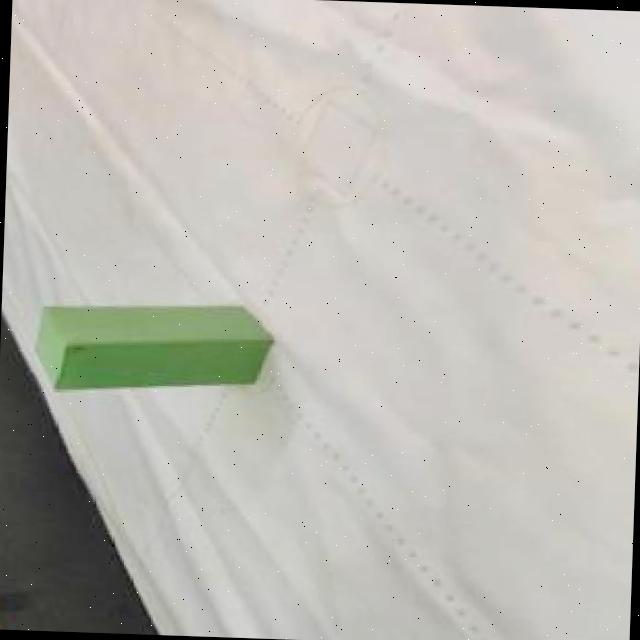greenbox: (30, 294, 279, 398)
